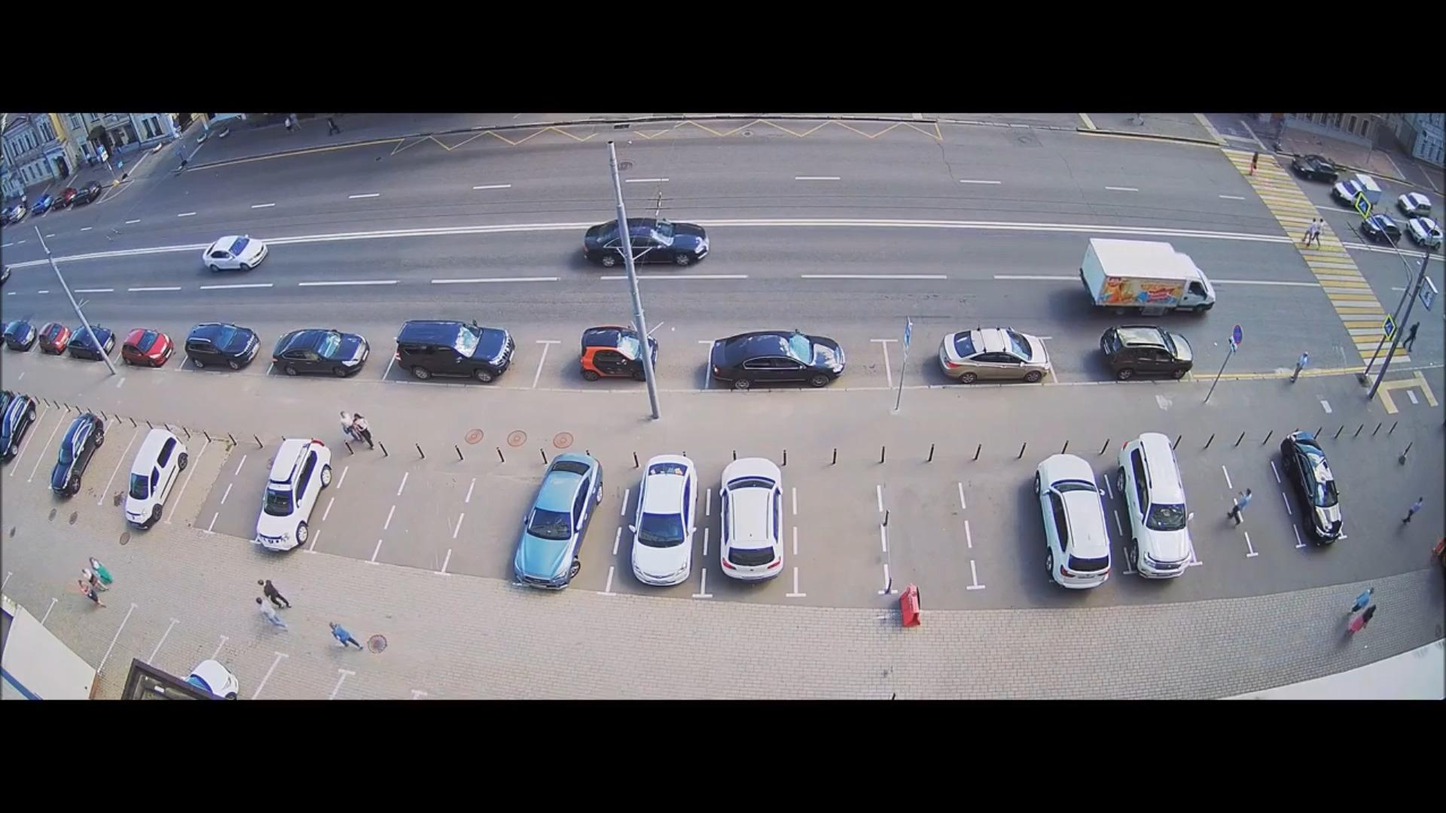car: (591, 215, 713, 271), (1098, 254, 1186, 296), (202, 234, 260, 272)
free: (807, 512, 873, 571), (894, 520, 960, 579), (342, 472, 408, 530), (208, 468, 250, 527), (408, 490, 449, 548)
occupied: (511, 451, 603, 589), (1115, 433, 1195, 575), (1033, 454, 1110, 589), (629, 454, 698, 585), (254, 438, 333, 551), (718, 457, 785, 582), (708, 328, 841, 390), (392, 318, 514, 384), (1280, 431, 1347, 543), (123, 427, 190, 528), (1100, 323, 1196, 379), (271, 327, 370, 378), (50, 415, 107, 501), (573, 317, 659, 364), (183, 321, 260, 370), (949, 329, 1026, 376), (0, 390, 38, 462), (119, 327, 174, 368), (67, 323, 118, 361), (1, 320, 38, 352), (38, 322, 73, 355), (1, 203, 27, 227)
